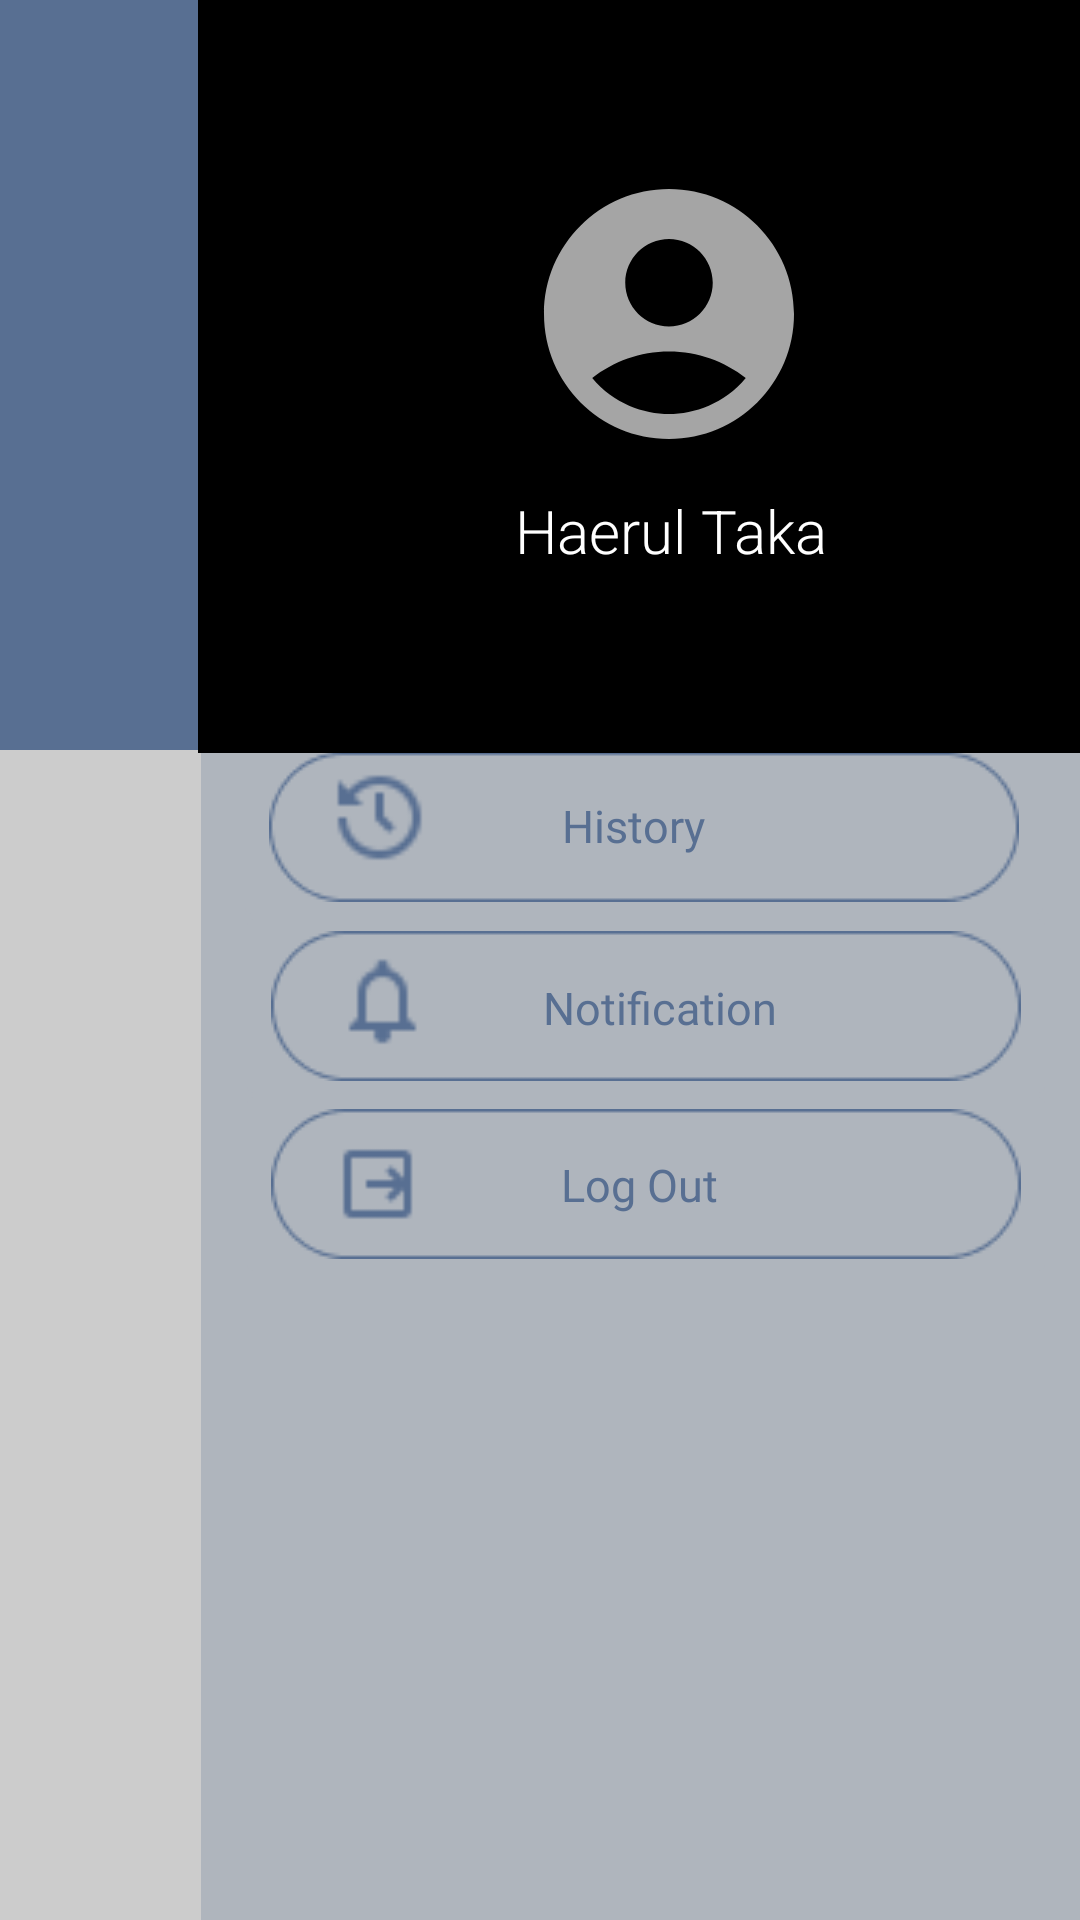

Point at icon controls on the screen. Image size 1080w x 1920h, points as point (x, y).
user: point (669, 314)
